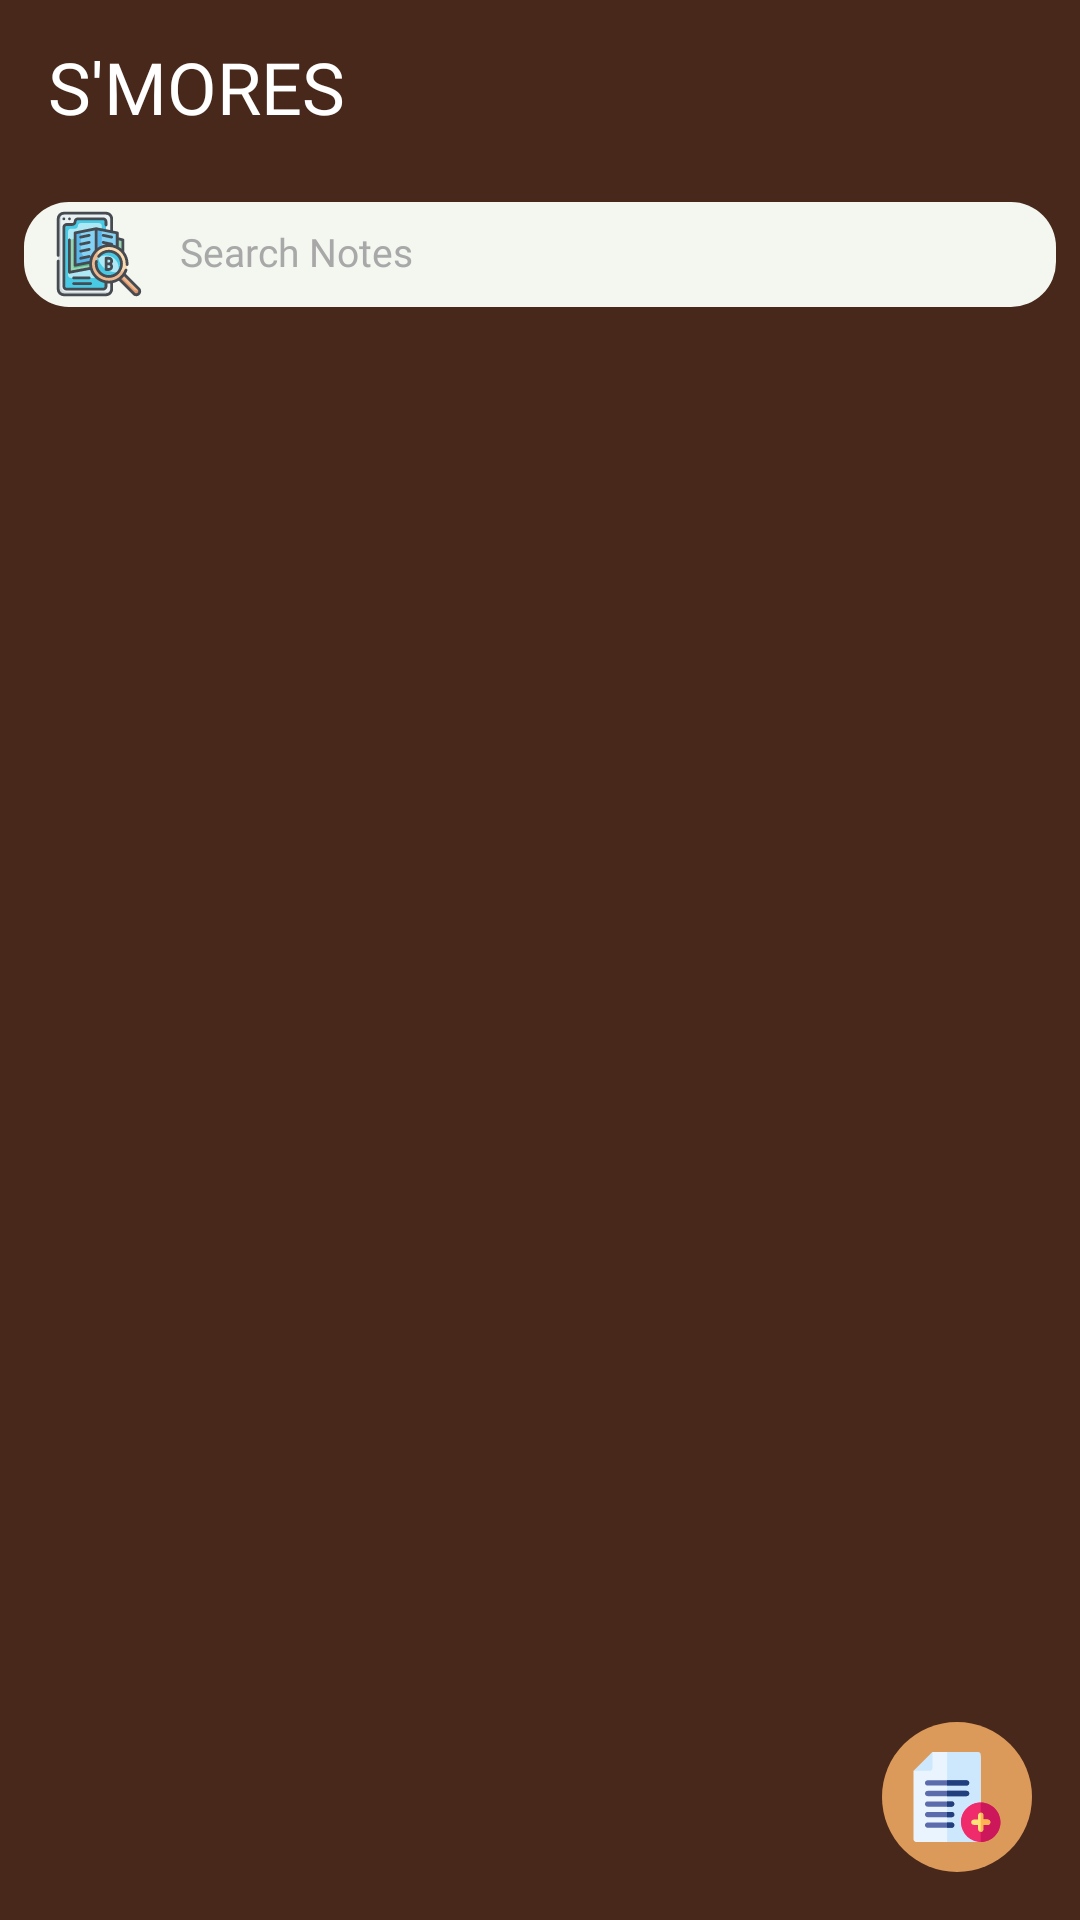

Screen size 1080×1920. Icon name, then its center in pixels as (x=x, y=y):
add: (x=957, y=1797)
